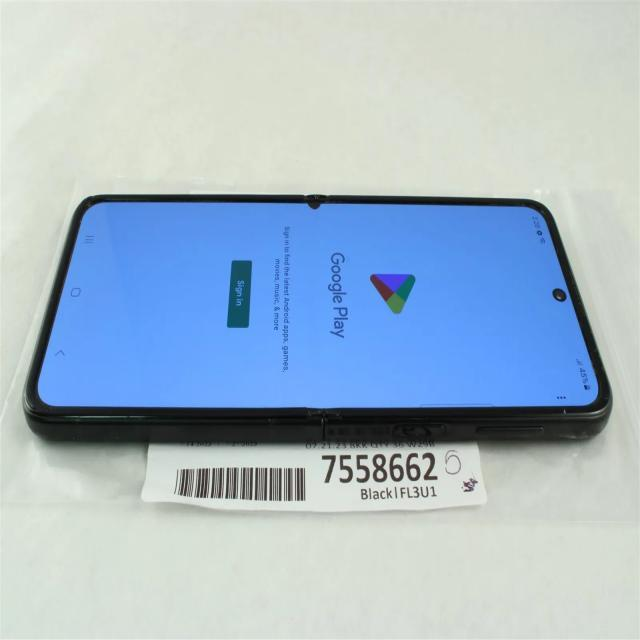dead pixel: (303, 187, 328, 229)
